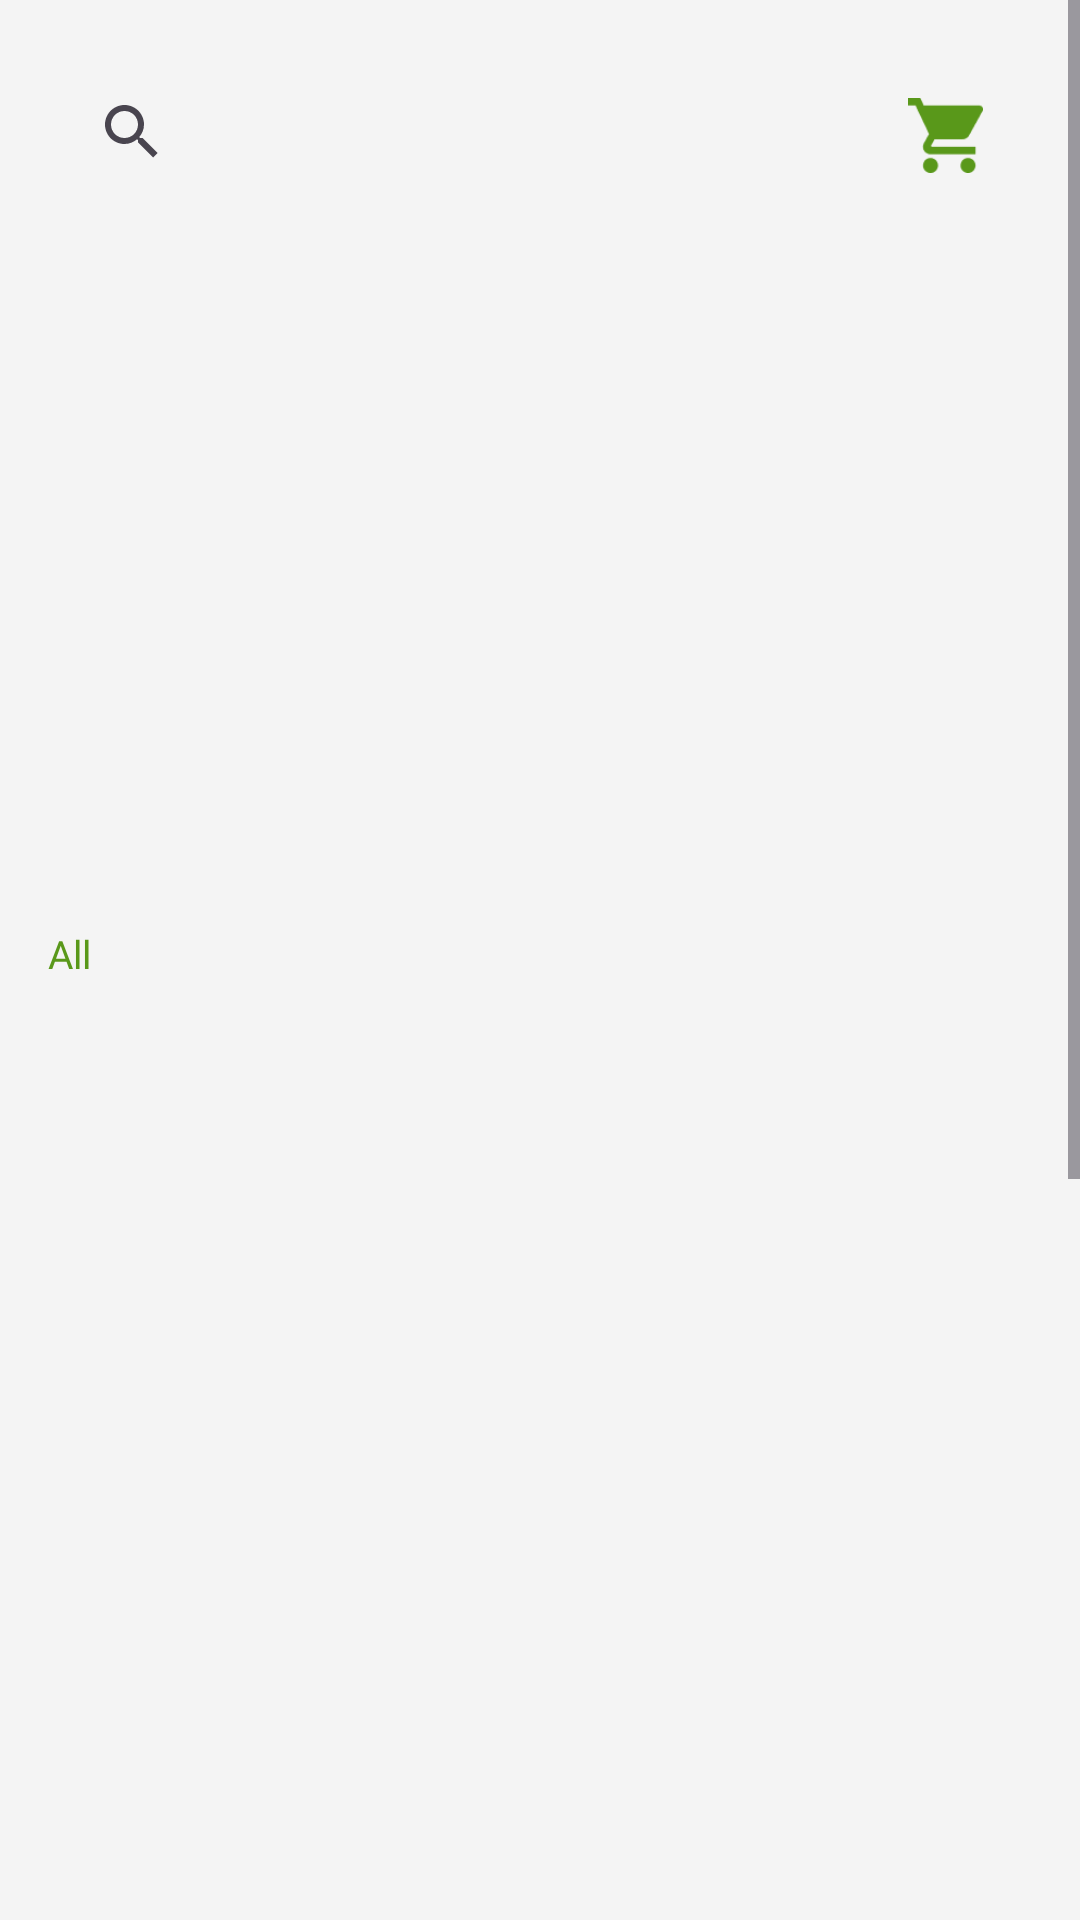

Icon bounding boxes for this 1080x1920 phone screenshot, format [left=x1, top=y1, right=x2, bottom=y2]:
cart: [left=908, top=98, right=983, bottom=173]
